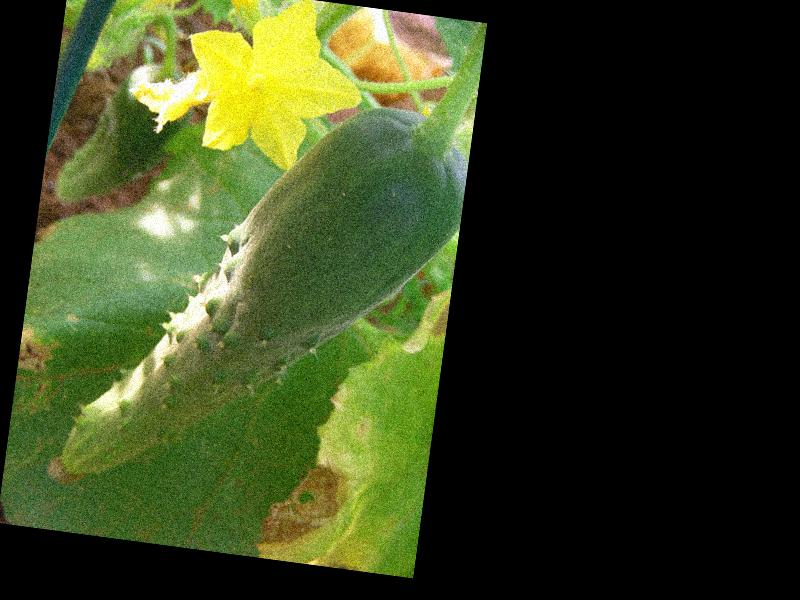Cucumber: (45, 69, 472, 530)
